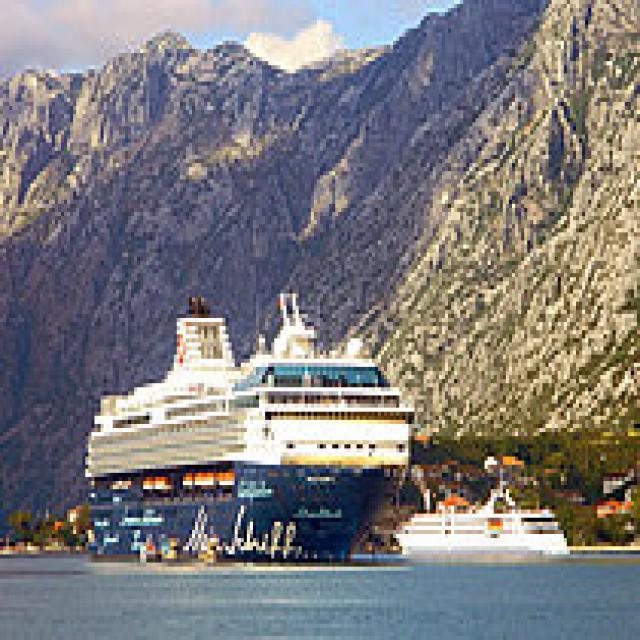Ship: (84, 271, 416, 576), (397, 470, 583, 584)
